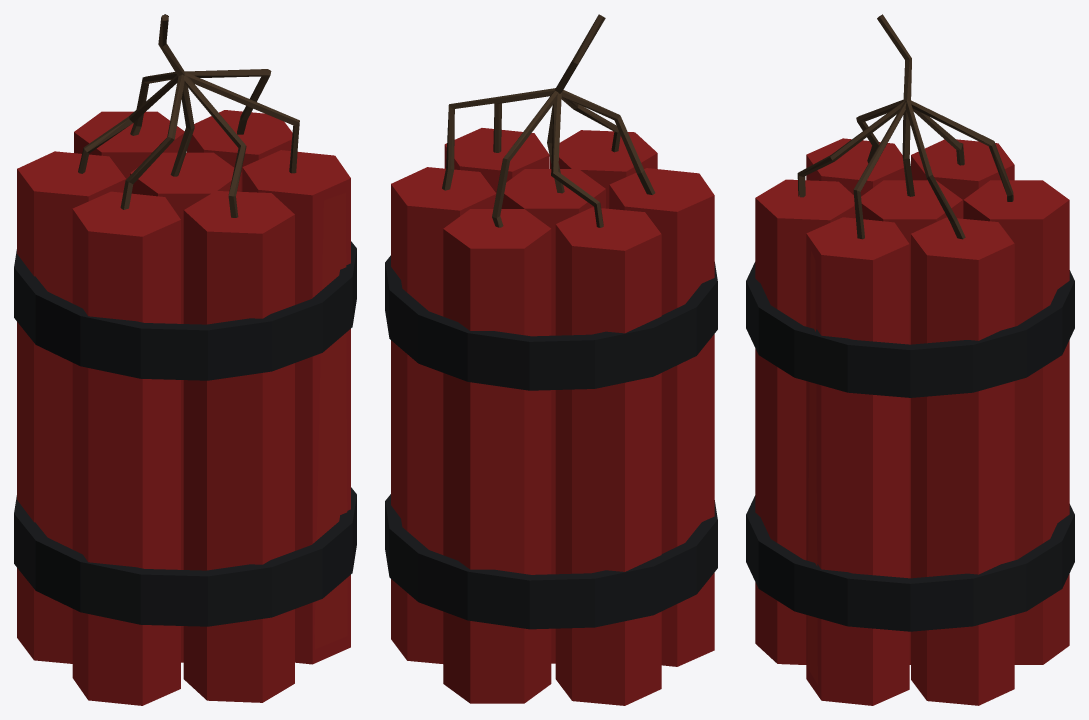
File: dynamite.fbx
3 renders of one model, left to right at view 1: azimuth 30°, elevation 25°; view 2: azimuth 150°, elevation 25°; view 3: azimuth 270°, elevation 25°, orthographic. The views are drawn at different scales.
Parts seen in each view (by area): view 1: Dynamite; view 2: Dynamite; view 3: Dynamite.
Boxes of the visible parts, x1,y1,x2,y2 form: Dynamite: [14, 14, 356, 705]; Dynamite: [385, 14, 717, 705]; Dynamite: [746, 14, 1074, 705].
Size of the model in its own units: 0.4845 by 1 by 0.4845.
